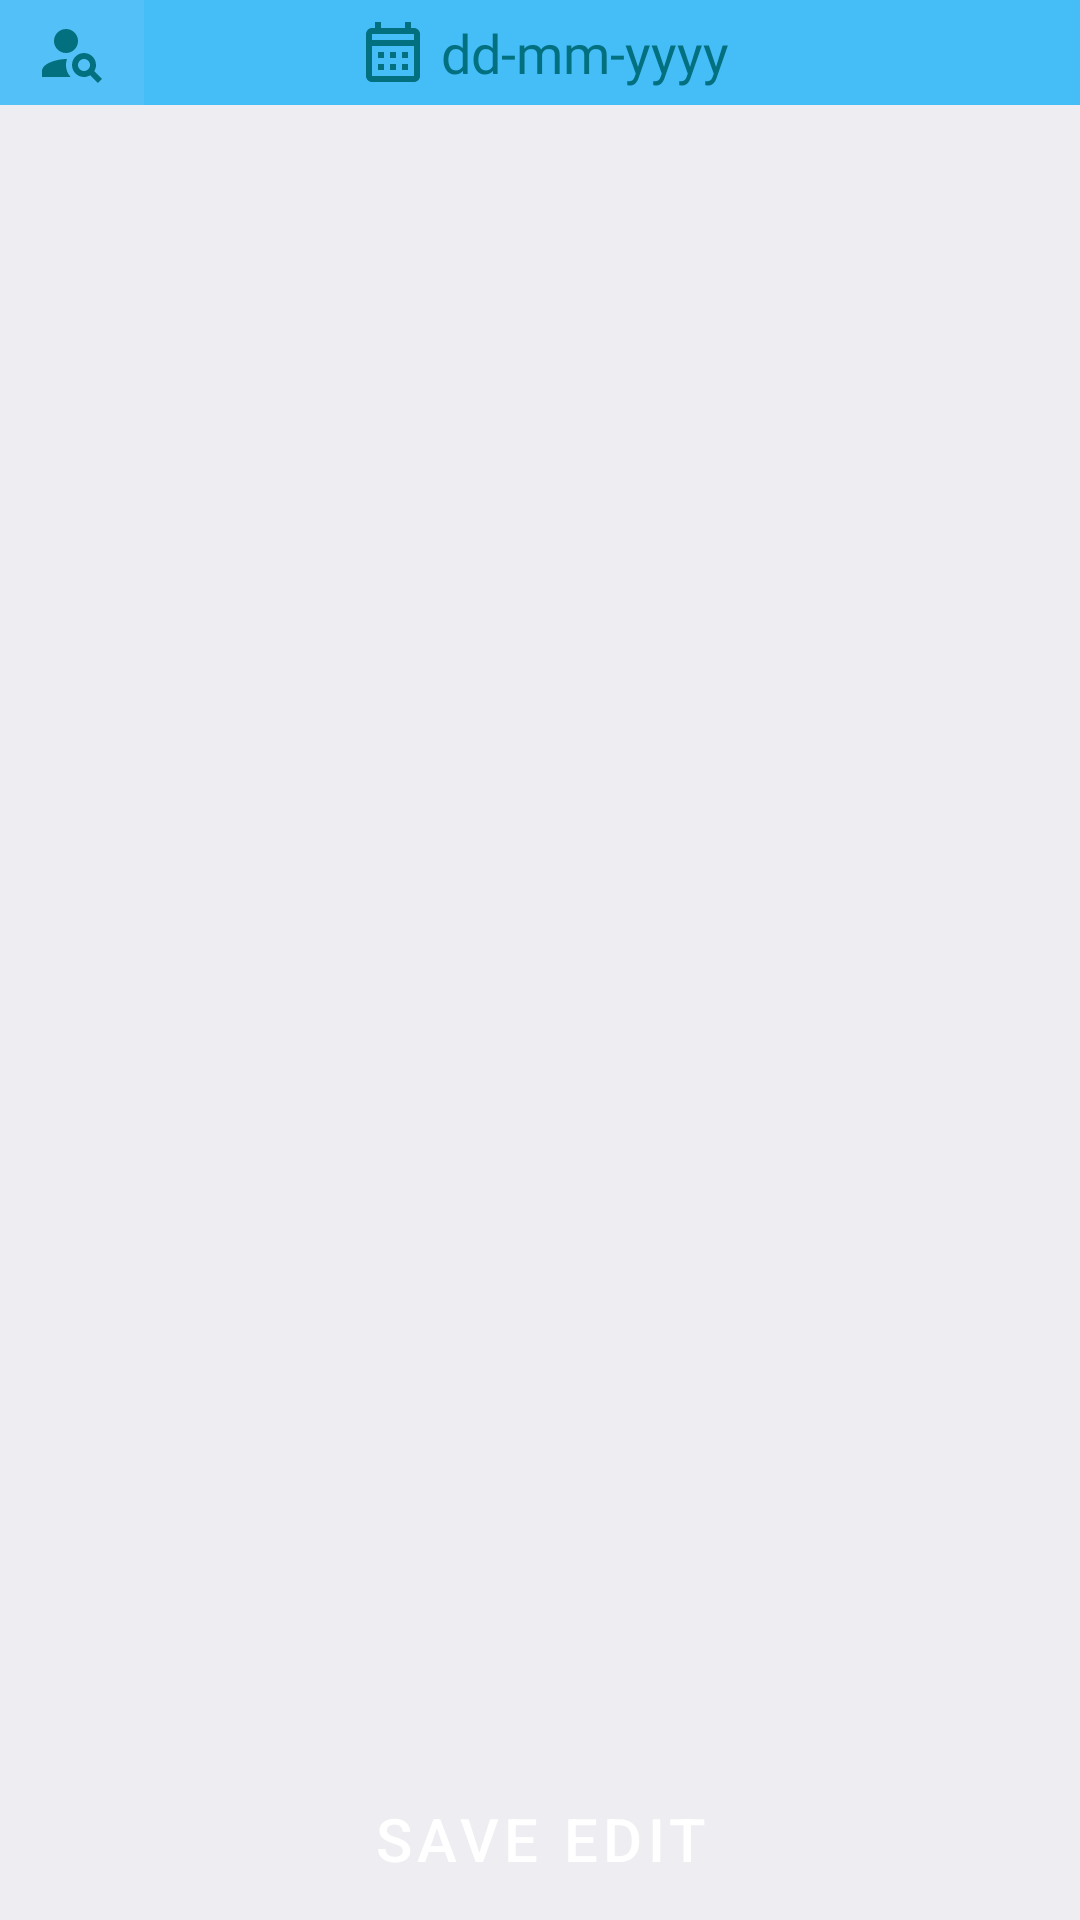

Icon bounding boxes for this 1080px×1920px phone screenshot, format rect(x1, y1, x2, y2):
calendar: rect(366, 22, 420, 82)
